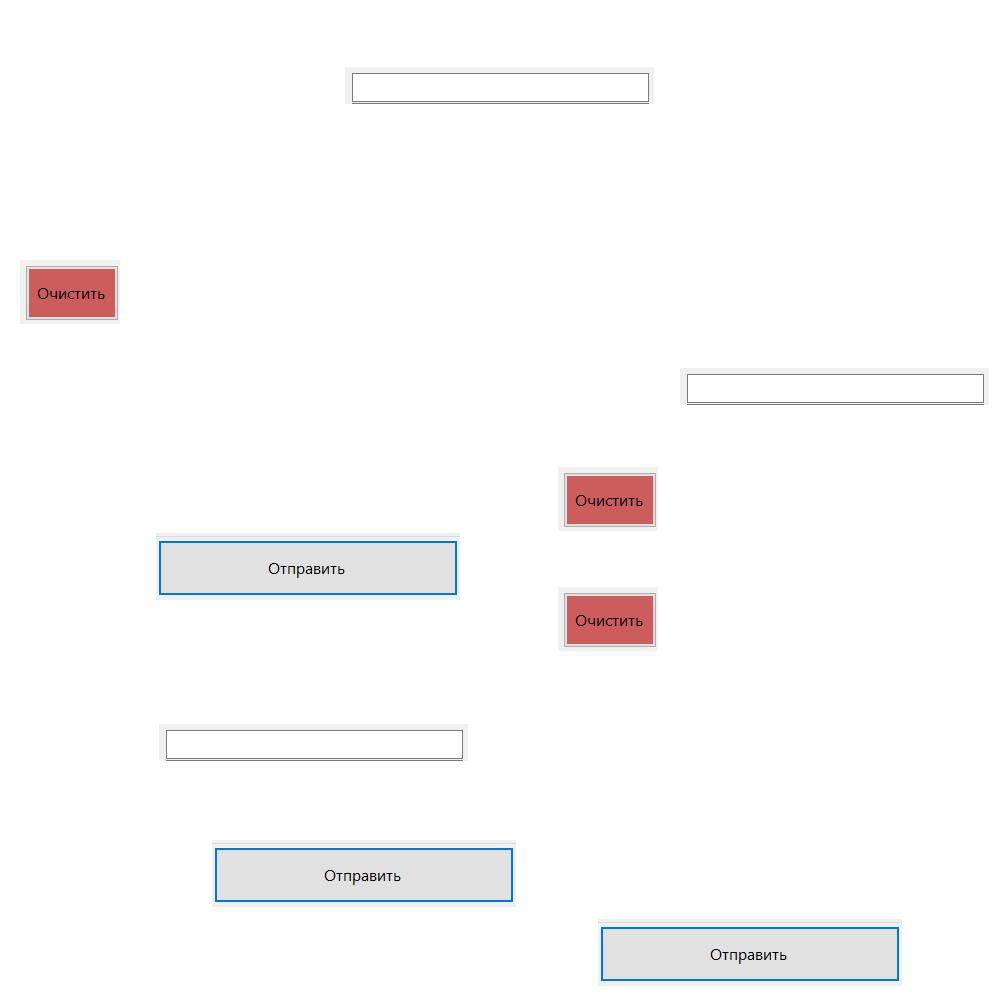Button: (598, 919, 902, 986), (212, 840, 516, 907), (156, 533, 460, 600), (558, 587, 658, 651), (558, 467, 658, 531), (20, 260, 120, 324)
EditText-: (159, 724, 468, 761), (345, 67, 654, 104), (680, 368, 989, 405)
